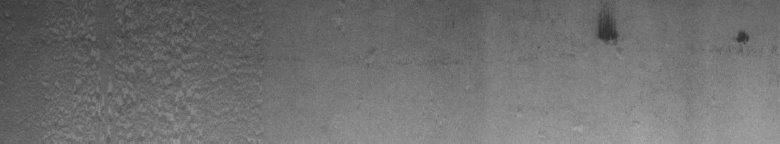fi: (732, 24, 752, 52)
